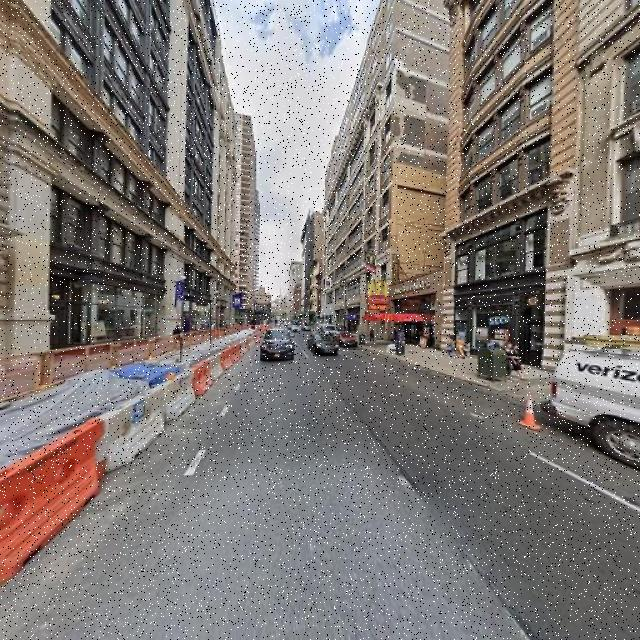Building: (1, 1, 232, 369), (450, 1, 575, 375), (325, 1, 447, 353), (583, 1, 640, 390)
